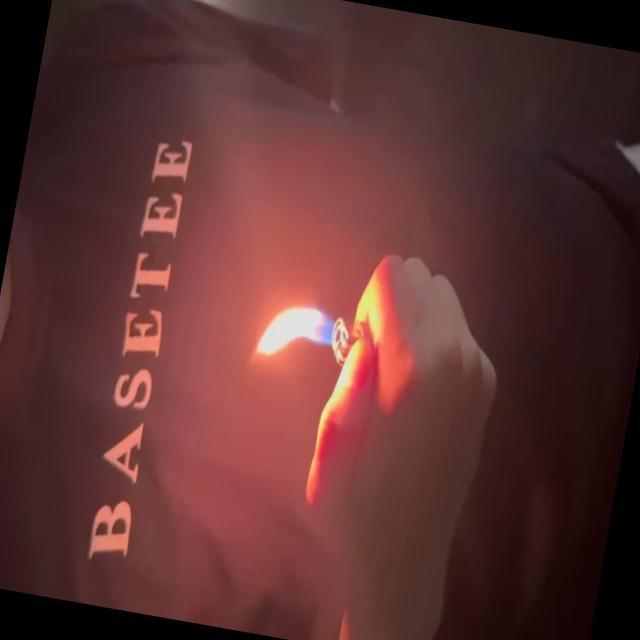Fire: (252, 293, 347, 375)
